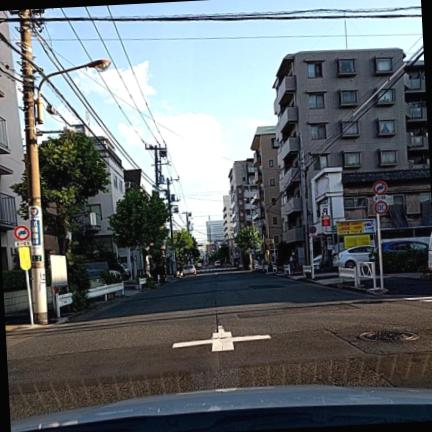Road: (6, 273, 431, 419)
